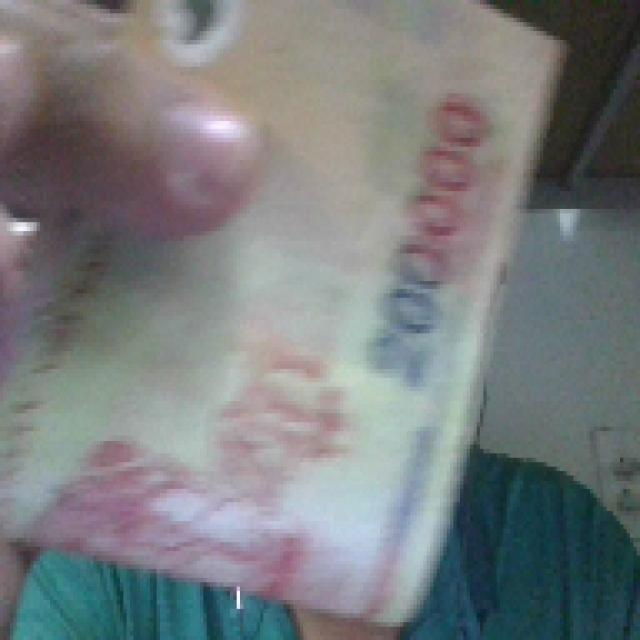200 000 VND: (0, 0, 570, 627)
